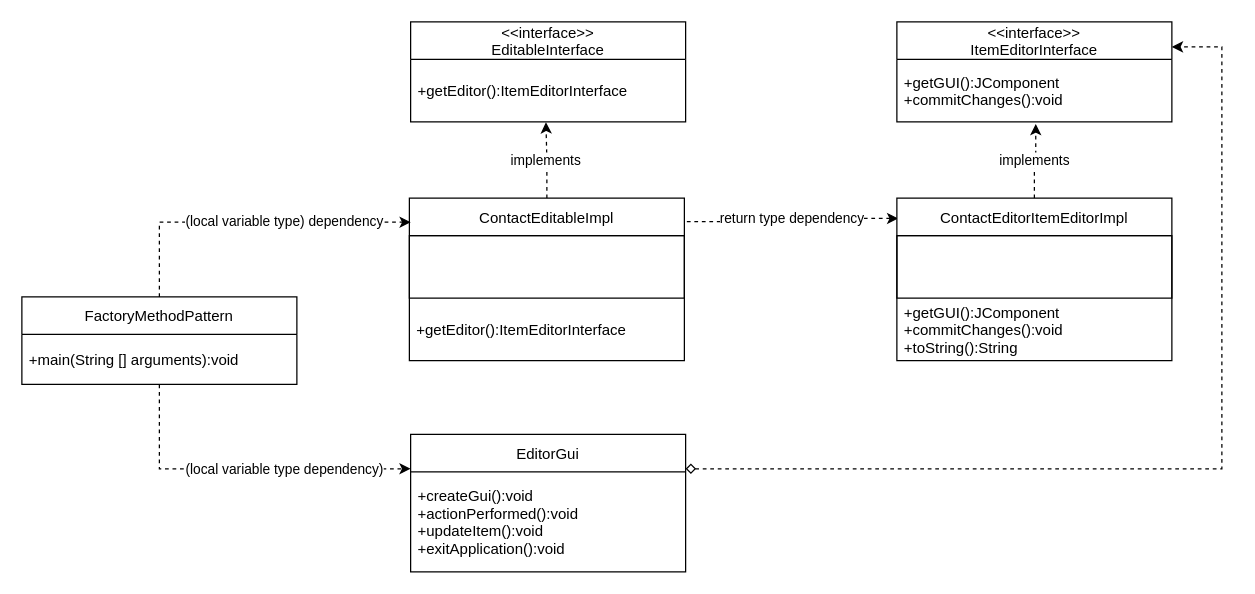
The diagram is 1255 pixels wide and 594 high, and some of its shapes have lost their labels. Here are the shapes that lost their labels. From the top down, the centre of each, then its label:
(x=546, y=266): -name:String -relationship:String
(x=1034, y=266): -panel:JPanel -nameField:JTextField -relationField:JTextField
